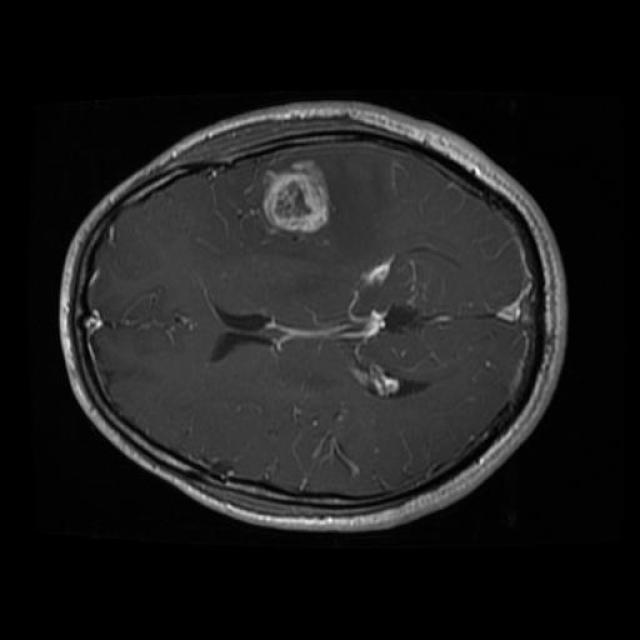Glioma: (263, 161, 327, 234)
